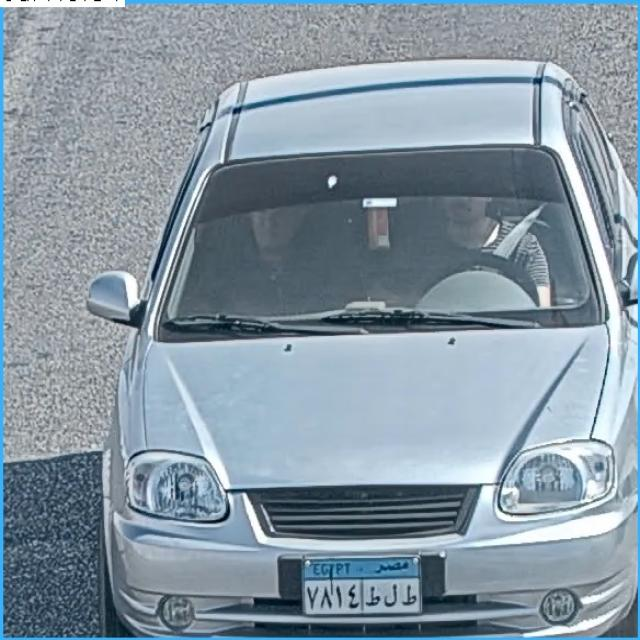windshield: (156, 151, 592, 326)
